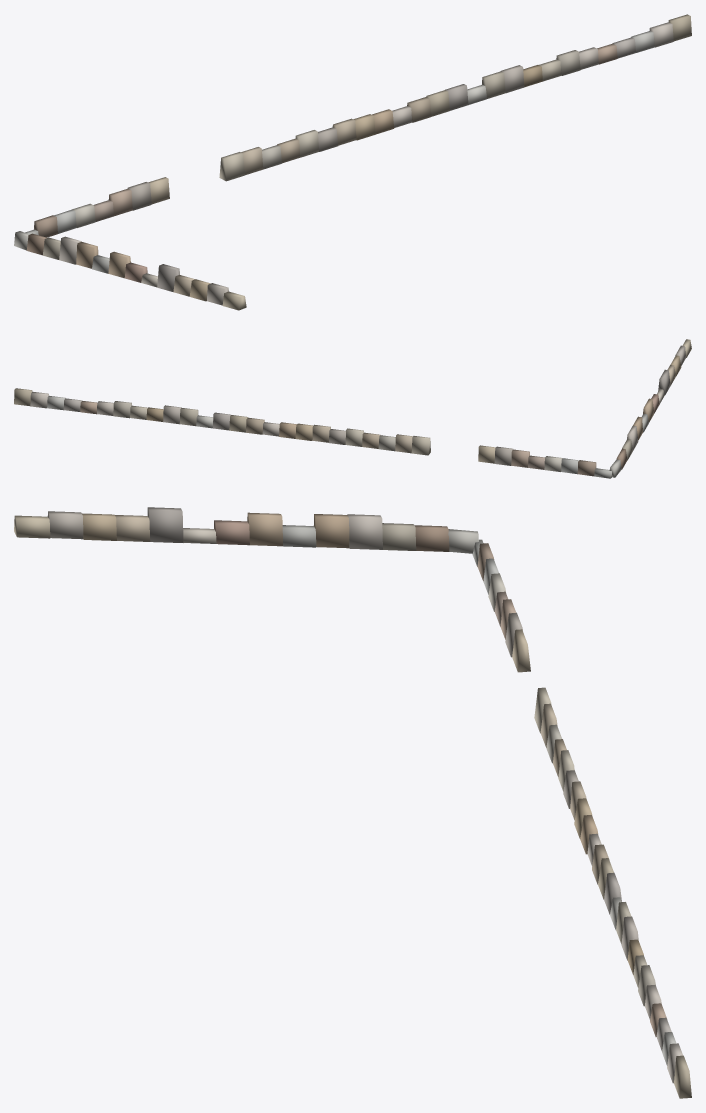
File: farm_21_19_collision.glb
3 renders of one model, top to bottom at view 1: azimuth 30°, elevation 25°; view 2: azimuth 150°, elevation 25°; view 3: azimuth 270°, elevation 25°, orthographic. The views are drawn at different scales.
Parts seen in each view (by area): view 1: geometry_0; view 2: geometry_0; view 3: geometry_0.
Boxes of the visible parts, <box> form: geometry_0: <box>14,14,691,310</box>; geometry_0: <box>14,339,691,478</box>; geometry_0: <box>14,507,691,1098</box>.
Size of the model in its own units: 56.62 by 5.81 by 31.58.
